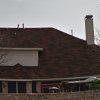Chimney: (77, 8, 100, 52)
